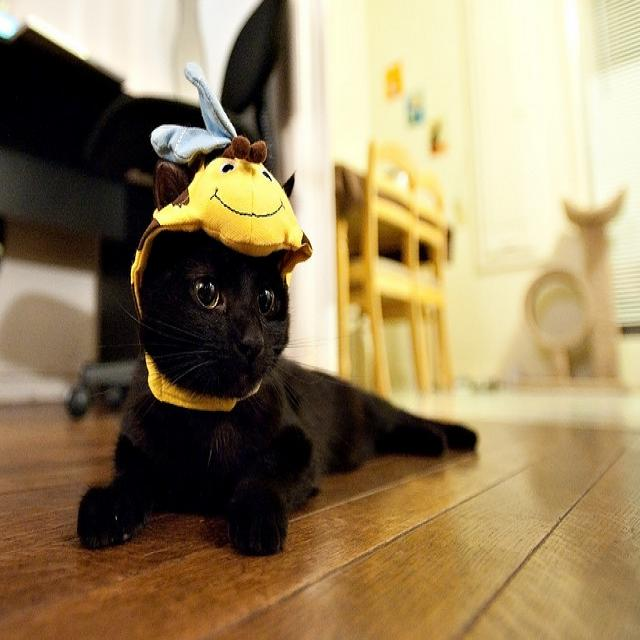chair: (350, 145, 430, 398), (220, 0, 297, 180), (410, 168, 453, 389)
dining table: (335, 160, 455, 386)
